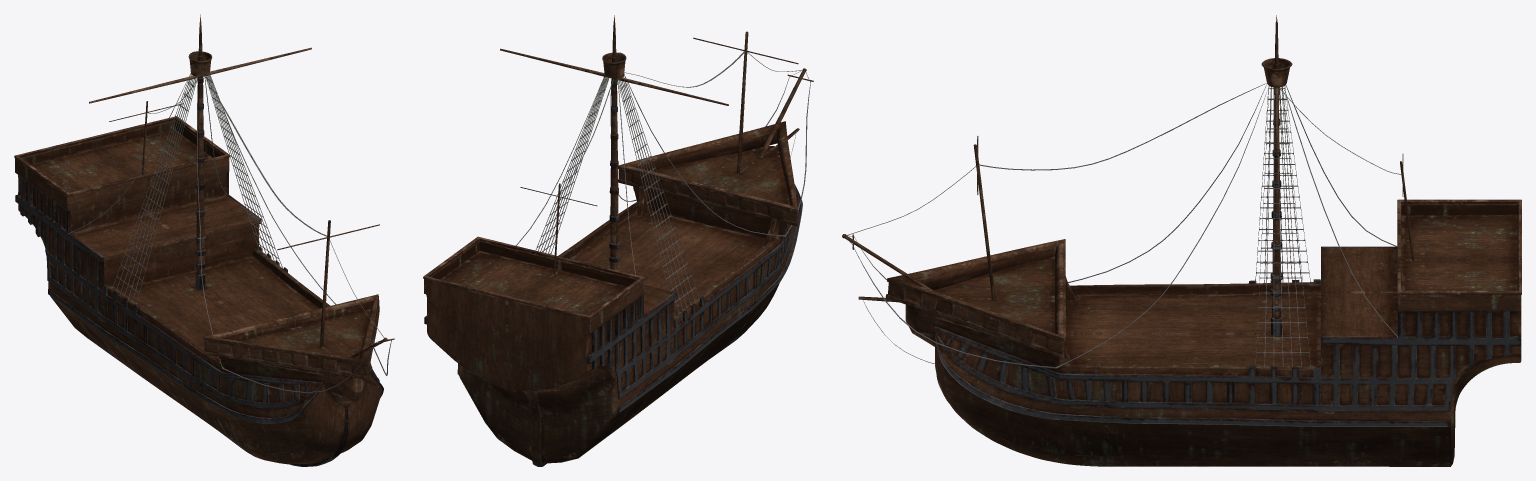
Rendered from boat.glb.
3 renders of one model, left to right at view 1: azimuth 30°, elevation 25°; view 2: azimuth 150°, elevation 25°; view 3: azimuth 270°, elevation 25°, orthographic. The views are drawn at different scales.
Visible parts, largest first — view 1: Cube (×3); view 2: Cube (×3); view 3: Cube (×3).
Boxes of the visible parts, x1,y1,x2,y2 form: Cube (×3): [14, 14, 394, 466]; Cube (×3): [423, 15, 813, 466]; Cube (×3): [842, 15, 1521, 466].
Size of the model in its own units: 0.8819 by 1.47 by 2.
Materials: 3 (3 with a texture image).
